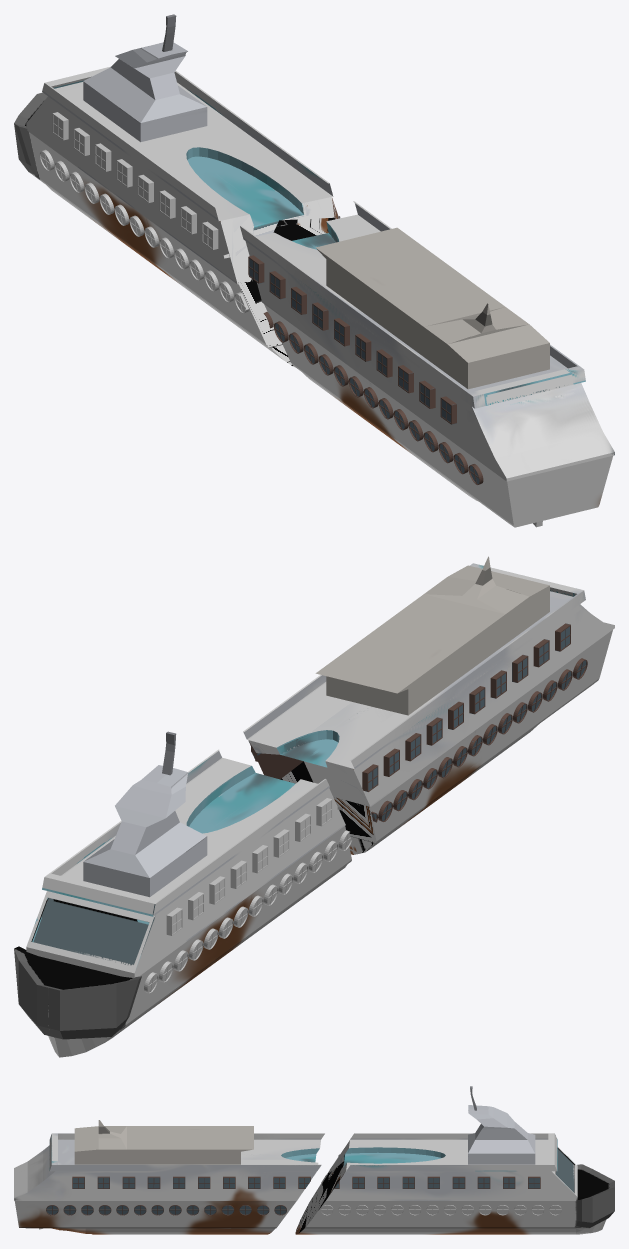
File: Ship.fbx
3 views of the same model, one above another, from view 1: azimuth 30°, elevation 25°; view 2: azimuth 150°, elevation 25°; view 3: azimuth 270°, elevation 25° (orthographic). The views are drawn at different scales.
Visible parts, largest first — view 1: Above part, Above part.004; view 2: Above part.004, Above part; view 3: Above part, Above part.004.
Boxes of the visible parts, x1=… form: Above part: x1=240, y1=201, x2=614, y2=527; Above part.004: x1=14, y1=14, x2=340, y2=367; Above part.004: x1=14, y1=731, x2=352, y2=1057; Above part: x1=243, y1=556, x2=614, y2=854; Above part: x1=14, y1=1120, x2=324, y2=1234; Above part.004: x1=295, y1=1086, x2=614, y2=1234.
Size of the model in its own units: 1350 by 2561 by 9579.
